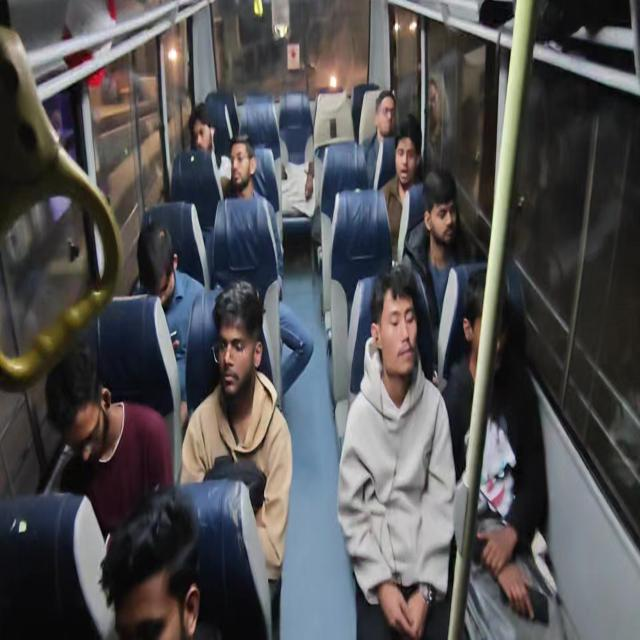person: (44, 82, 556, 637), (337, 261, 457, 638), (180, 279, 293, 636), (442, 269, 549, 625), (44, 340, 174, 541), (220, 133, 314, 397), (98, 484, 202, 639), (402, 167, 473, 378), (132, 220, 205, 412), (170, 102, 225, 236), (378, 114, 426, 264), (278, 91, 315, 218), (188, 102, 230, 199), (361, 89, 397, 190), (422, 76, 448, 170)
